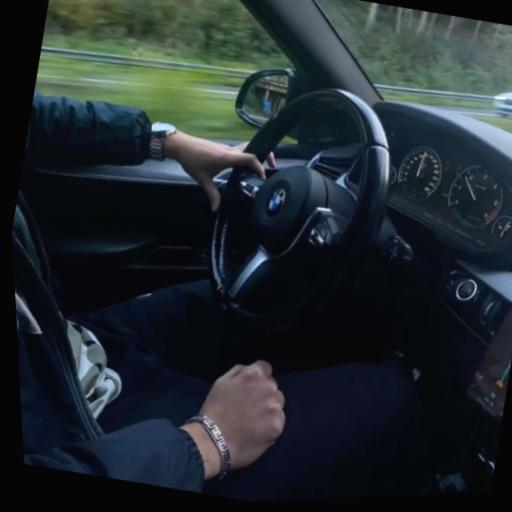Hands-on-the-Wheel: (159, 105, 326, 250)
